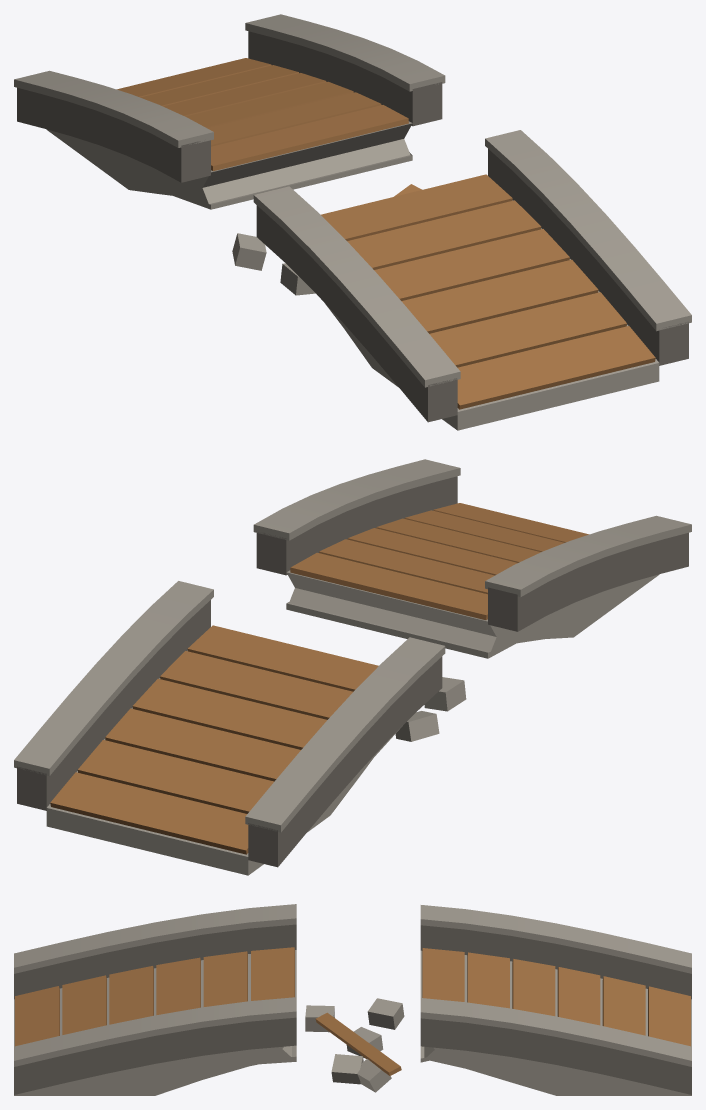
Rendered from bridge_broken.gltf.
3 renders of one model, top to bottom at view 1: azimuth 30°, elevation 25°; view 2: azimuth 150°, elevation 25°; view 3: azimuth 270°, elevation 25°, orthographic. The views are drawn at different scales.
Visible parts, largest first — view 1: bridge_broken; view 2: bridge_broken; view 3: bridge_broken.
Boxes of the visible parts, box(x1,y1,x2,y2) form: bridge_broken: box(14, 14, 691, 430); bridge_broken: box(14, 459, 691, 875); bridge_broken: box(14, 904, 691, 1095).
Size of the model in its own units: 4.5 by 1.98 by 12.
